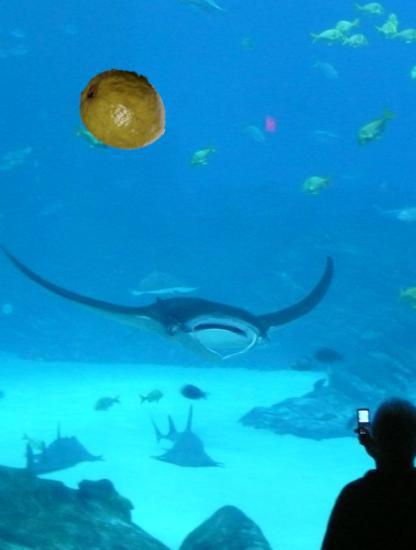Guava: (78, 64, 171, 157)
